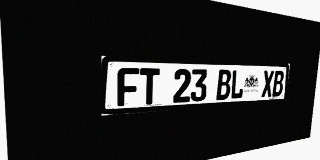2: (173, 69, 191, 103)
3: (190, 69, 207, 102)
B: (216, 70, 232, 100), (272, 71, 284, 97)
F: (117, 68, 139, 106)
L: (230, 70, 245, 99)
T: (139, 68, 160, 105)
X: (261, 70, 274, 97)
